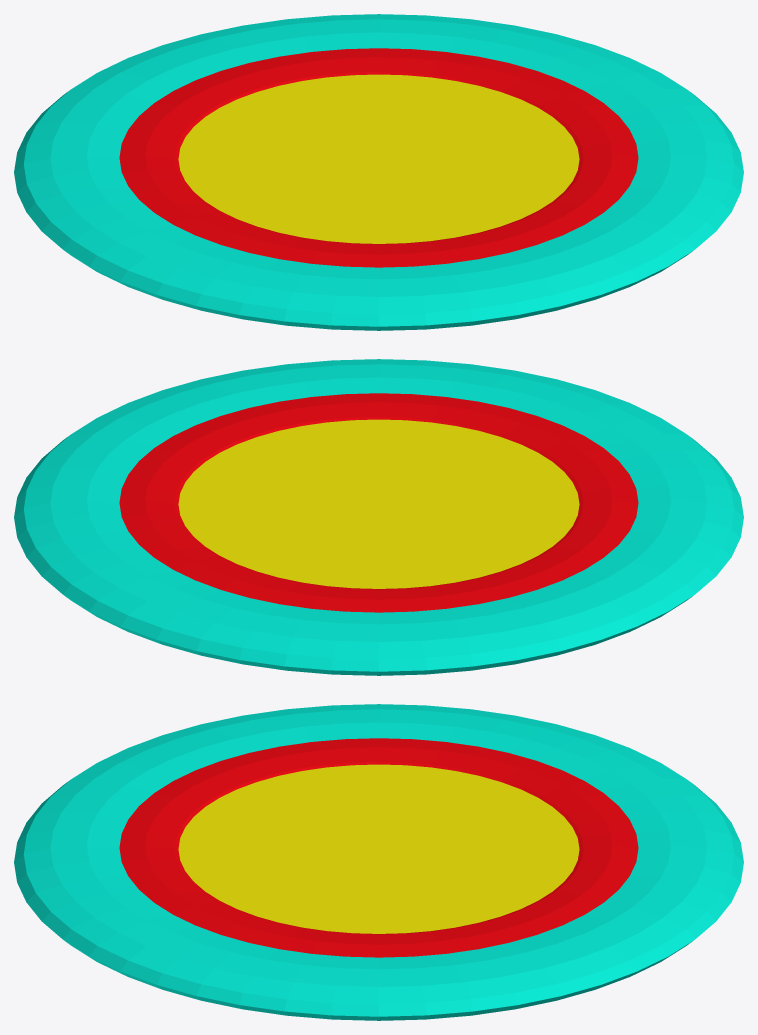
File: lutte.glb
3 renders of one model, top to bottom at view 1: azimuth 30°, elevation 25°; view 2: azimuth 150°, elevation 25°; view 3: azimuth 270°, elevation 25°, orthographic.
Visible parts, largest first — view 1: Tore; view 2: Tore; view 3: Tore.
Boxes of the visible parts, left/top/right/bottom form: Tore: left=14, top=14, right=743, bottom=330; Tore: left=14, top=359, right=743, bottom=675; Tore: left=14, top=704, right=743, bottom=1020.
Size of the model in its own units: 20 by 1 by 20.
